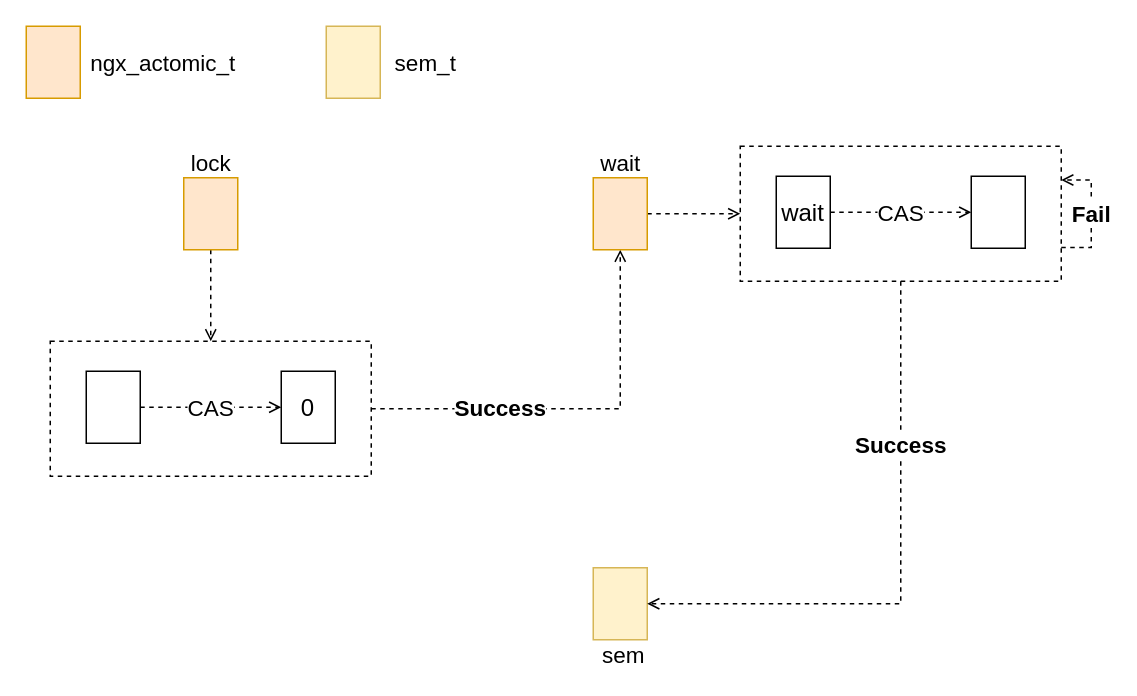
This 1137x696 diagram has some shape labels left out. The shapes that lost their labels are listed below. From the top down, each one's centre as x and y in pixels, then its label:
(x=997, y=211): wait -1
(x=112, y=406): pid
